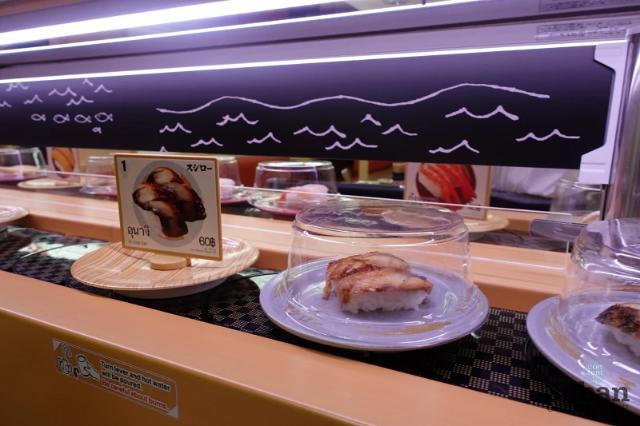janred: (242, 170, 356, 223), (90, 166, 117, 196), (224, 188, 250, 208)
janwhite: (263, 251, 491, 349), (531, 268, 640, 415)
